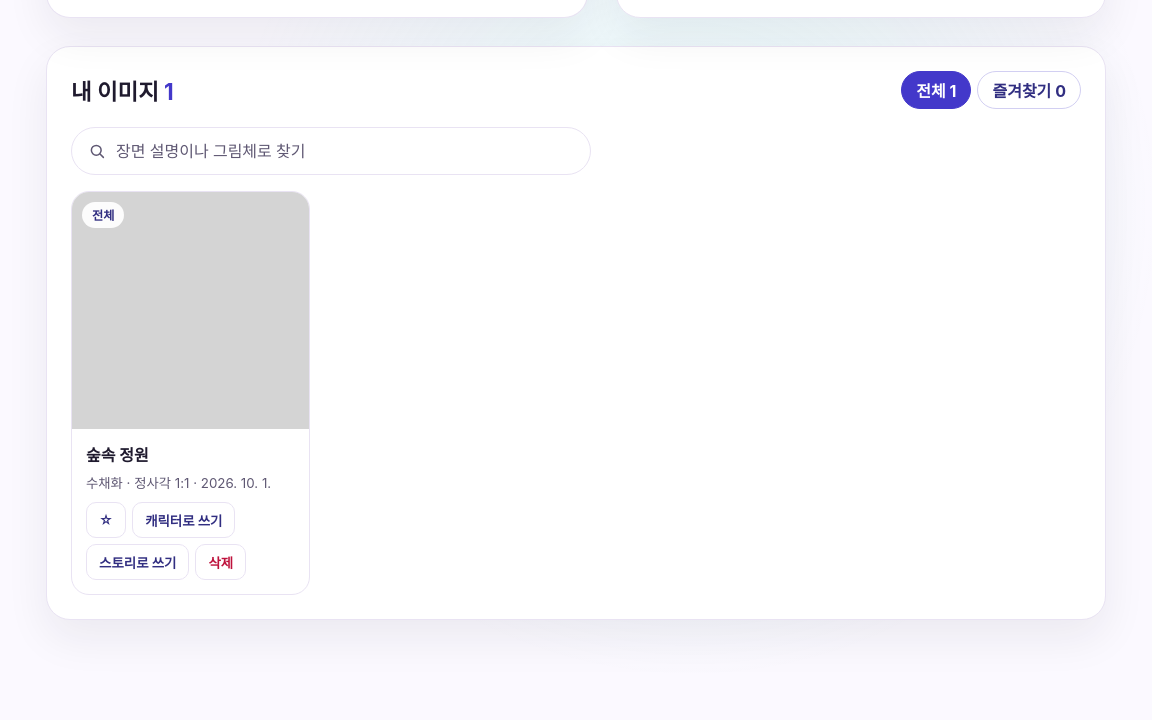
it: 삭제 확인 창의 키보드 사용 › 내 이미지의 삭제 창도 같은 방식으로 움직인다
The width and height of the screenshot is (1152, 720).
(page scrolled)
Click the button with aria-label "숲속 정원 삭제" at point(221, 562), box [195, 544, 246, 580]
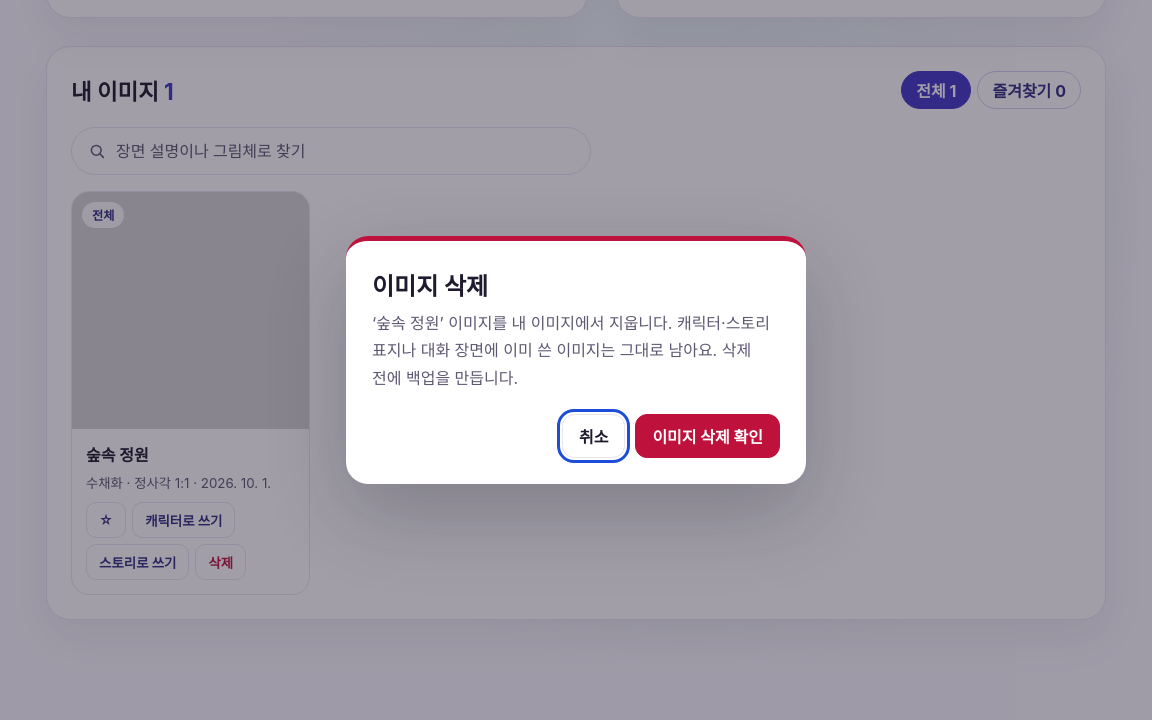
Press Shift+Tab
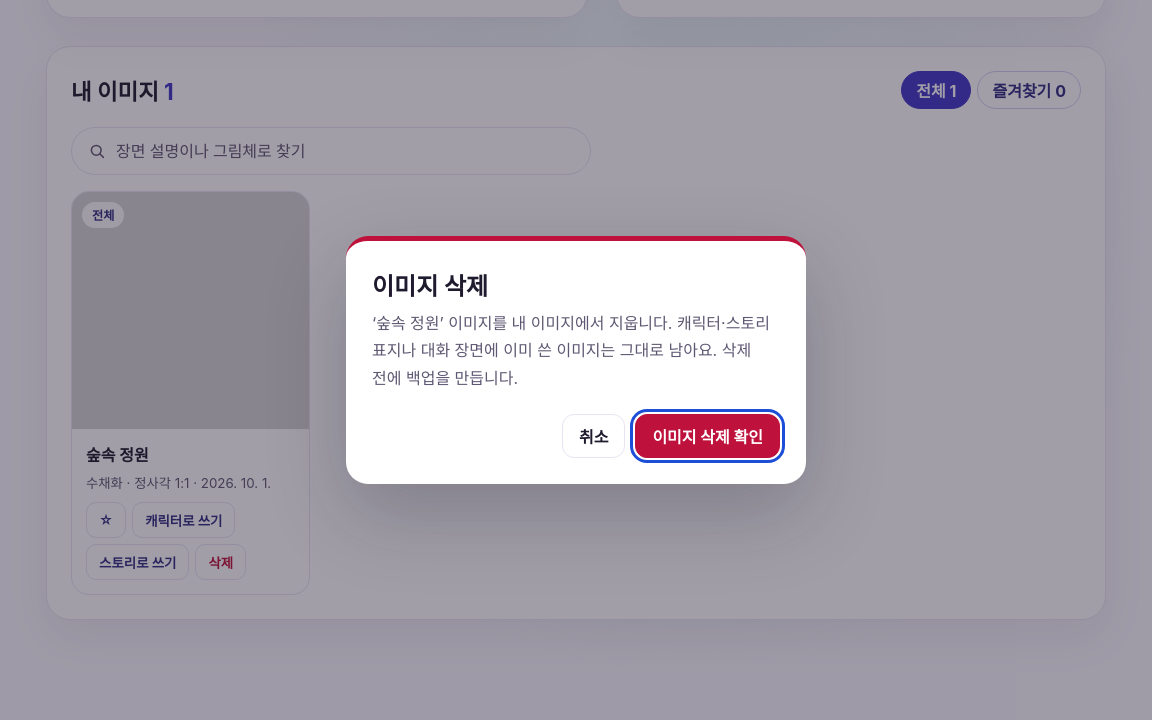
Press Escape
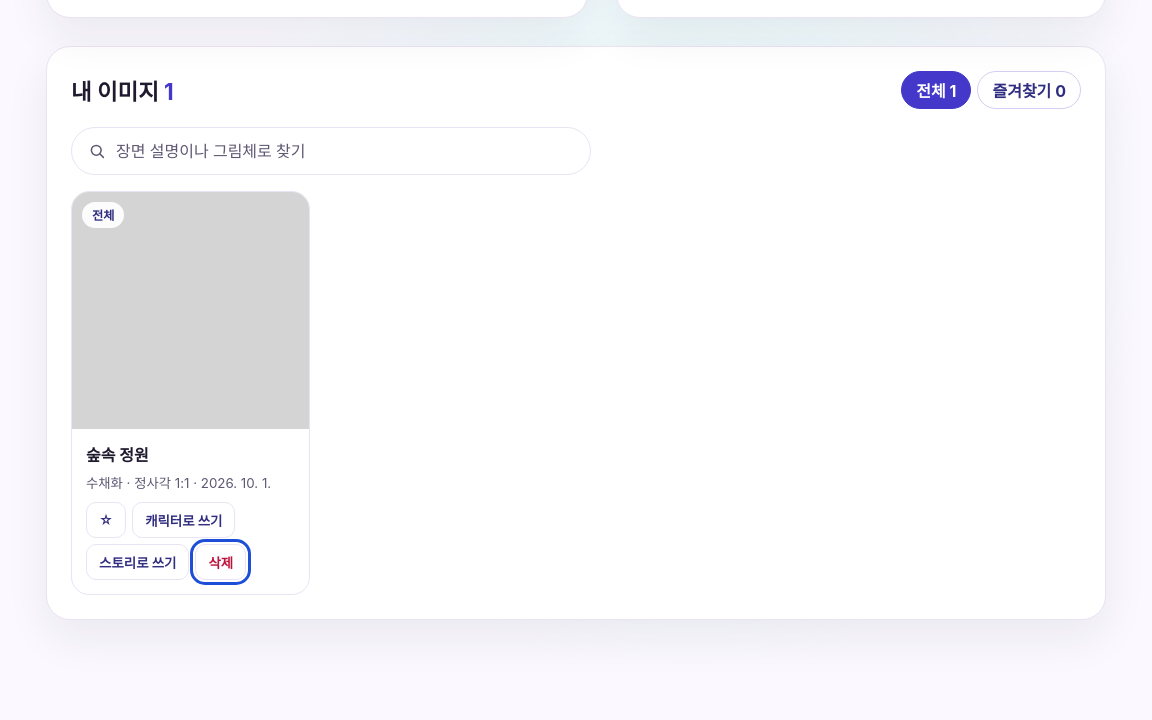
Now the dialog is gone
